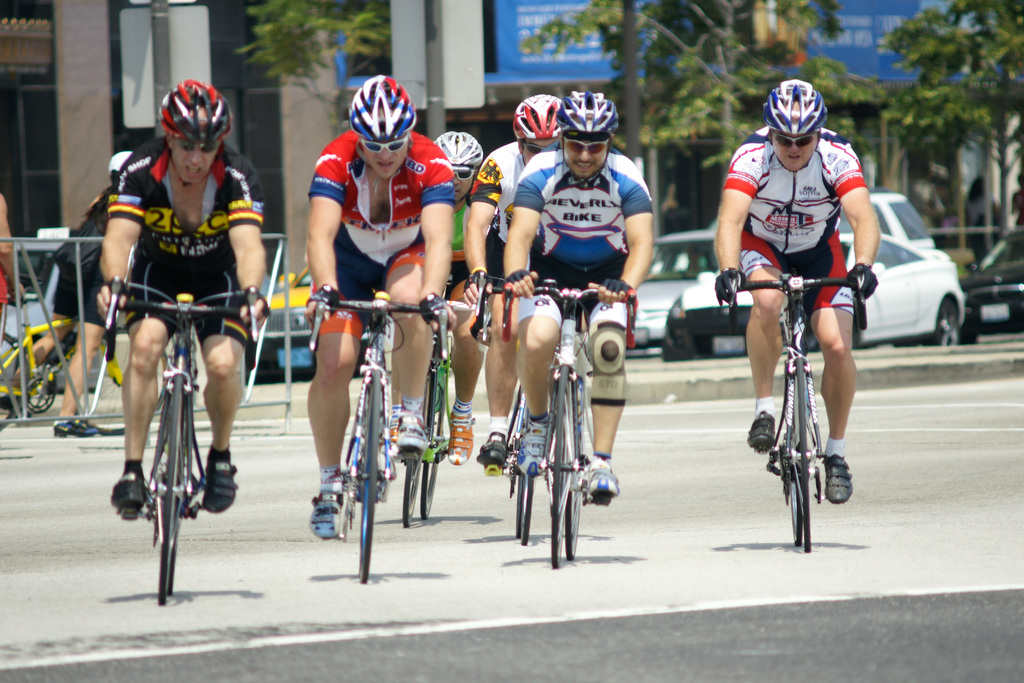Bike_toward: (97, 289, 245, 607), (304, 288, 438, 588)
